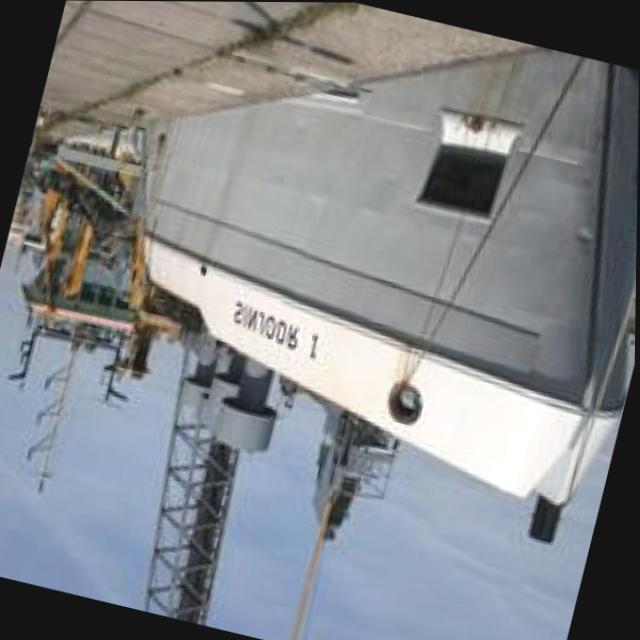ship2: (8, 45, 639, 640)
